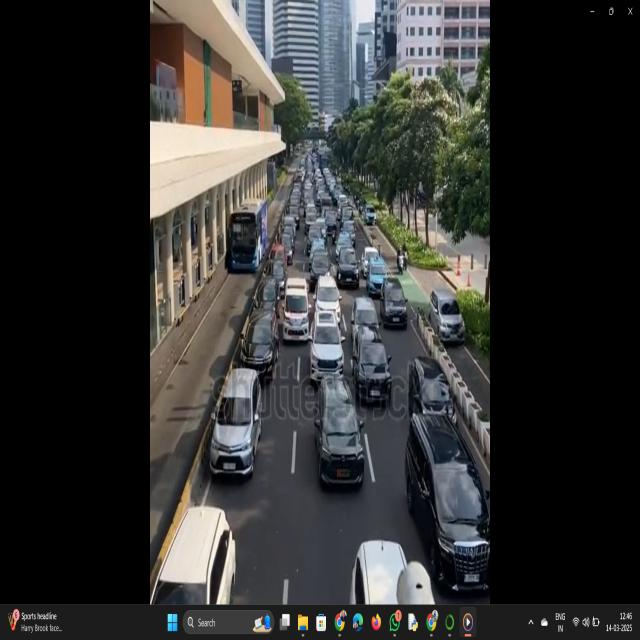Ambulance: (276, 273, 314, 349)
